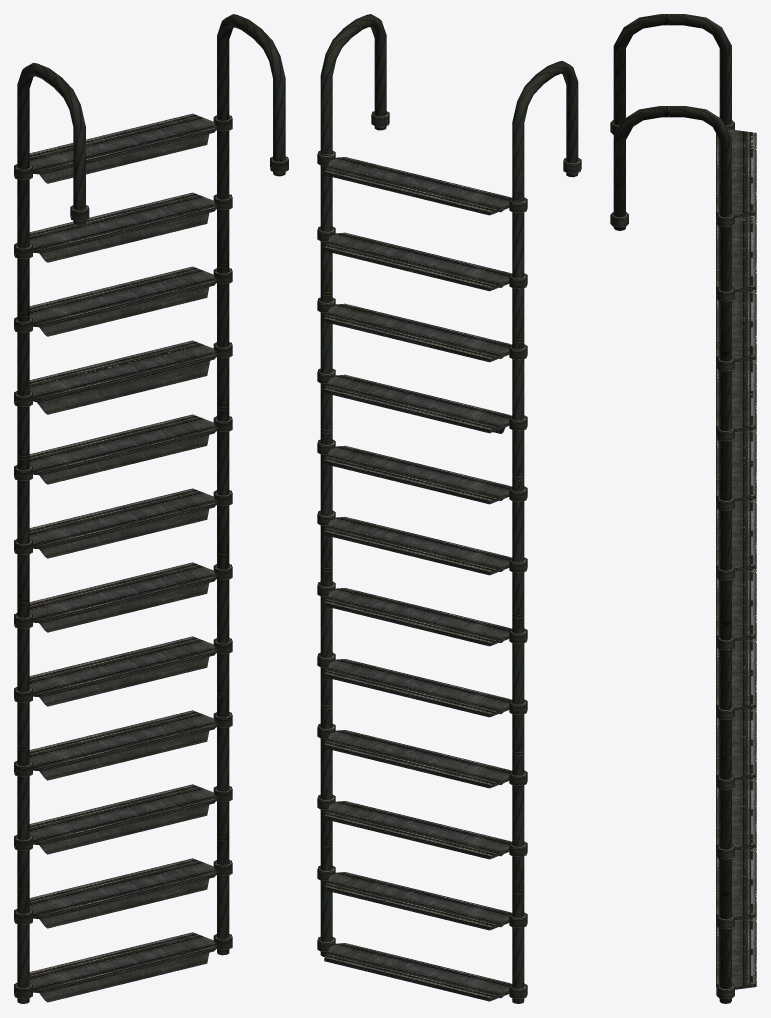
Rendered from tesla_structure_catwalk_ladder_02.dae.
3 views of the same model, side by side, from view 1: azimuth 30°, elevation 25°; view 2: azimuth 150°, elevation 25°; view 3: azimuth 270°, elevation 25° (orthographic). The views are drawn at different scales.
Parts seen in each view (by area): view 1: polySurface170; view 2: polySurface170; view 3: polySurface170.
Boxes of the visible parts, x1,y1,x2,y2 form: polySurface170: (14, 14, 288, 1003); polySurface170: (317, 14, 581, 1003); polySurface170: (610, 14, 756, 1003).
Size of the model in its own units: 92.01 by 386 by 56.97.
